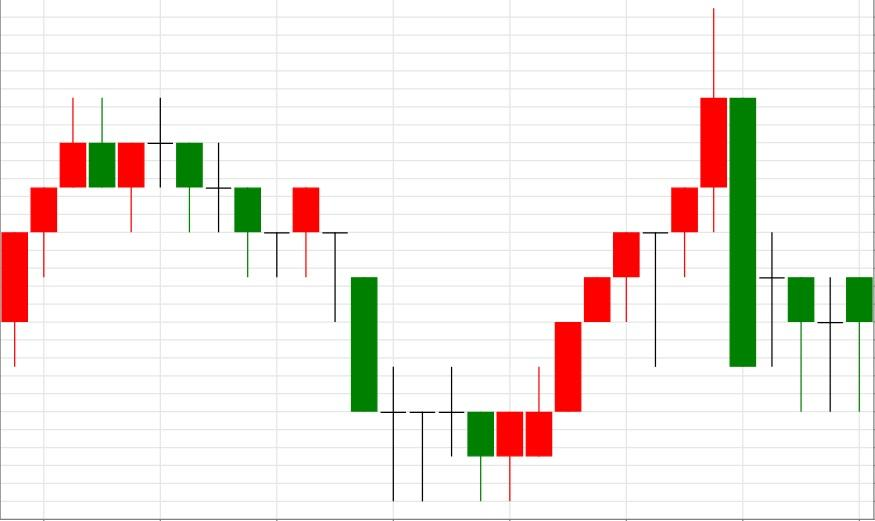evening_star_fall: (0, 96, 204, 366)
morning_star_rise: (60, 96, 321, 279)
three_white_soldiers_rise: (234, 187, 611, 501)
